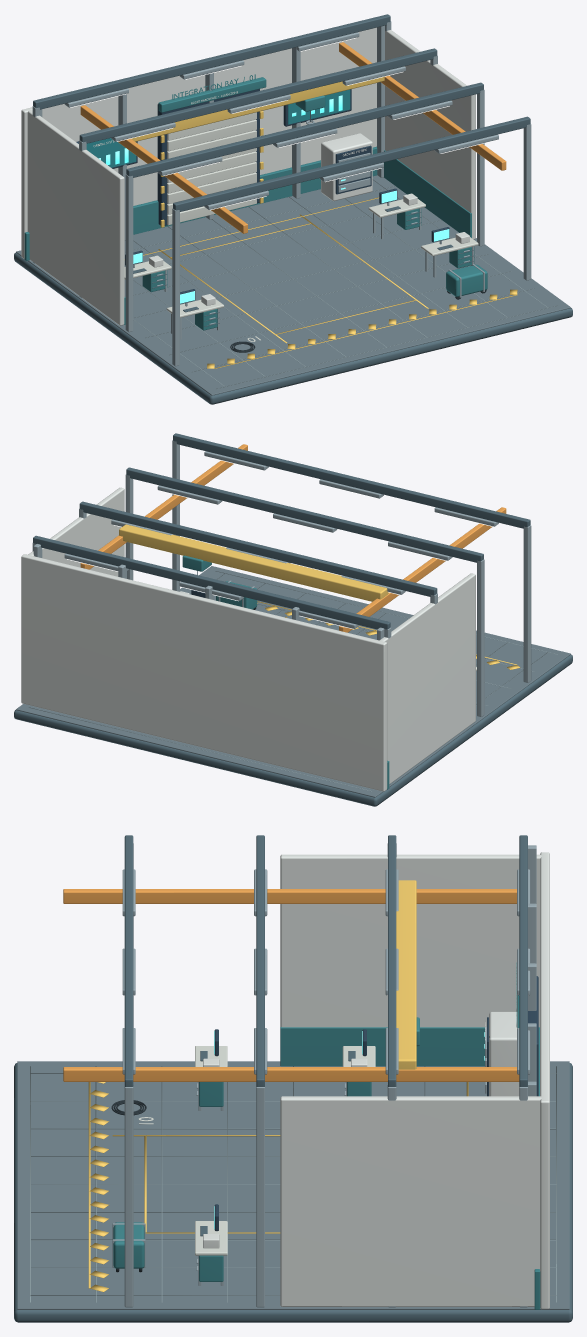
The model's file is hangar.glb.
The picture shows the model from 3 angles, top to bottom: view 1: azimuth 30°, elevation 25°; view 2: azimuth 150°, elevation 25°; view 3: azimuth 270°, elevation 25°; orthographic projection. The views are drawn at different scales.
Visible parts, largest first — view 1: Environment_Floor.001, Environment_Ivory.001, Environment_DarkSteel.001, Environment_Steel.001, Environment_Teal.001, Environment_ConcreteLight.001, Environment_Yellow.001, Environment_FloorLine.001, Environment_Amber.001, Environment_Navy.001, Environment_Screen.001, Environment_ScreenGlow.001 (+1 smaller); view 2: Environment_Ivory.001, Environment_DarkSteel.001, Environment_Floor.001, Environment_Steel.001, Environment_Yellow.001, Environment_Amber.001, Environment_FloorLine.001, Environment_Teal.001, Environment_Lamp.001; view 3: Environment_Ivory.001, Environment_Floor.001, Environment_DarkSteel.001, Environment_Amber.001, Environment_Steel.001, Environment_Teal.001, Environment_Yellow.001, Environment_FloorLine.001, Environment_ConcreteLight.001, Environment_Navy.001.
Part boxes in pixels (left/top/right/bottom): Environment_Floor.001: left=16, top=175, right=570, bottom=395; Environment_Ivory.001: left=21, top=27, right=475, bottom=325; Environment_DarkSteel.001: left=14, top=14, right=572, bottom=404; Environment_Steel.001: left=32, top=21, right=531, bottom=366; Environment_Teal.001: left=24, top=74, right=487, bottom=330; Environment_ConcreteLight.001: left=124, top=112, right=478, bottom=341; Environment_Yellow.001: left=124, top=76, right=517, bottom=368; Environment_FloorLine.001: left=125, top=179, right=557, bottom=389; Environment_Amber.001: left=80, top=42, right=506, bottom=233; Environment_Navy.001: left=76, top=89, right=449, bottom=303; Environment_Screen.001: left=86, top=89, right=350, bottom=167; Environment_ScreenGlow.001: left=98, top=95, right=449, bottom=303; Environment_Ivory.001: left=21, top=487, right=475, bottom=791; Environment_DarkSteel.001: left=14, top=433, right=572, bottom=806; Environment_Floor.001: left=16, top=566, right=570, bottom=797; Environment_Steel.001: left=32, top=440, right=531, bottom=784; Environment_Yellow.001: left=119, top=524, right=520, bottom=669; Environment_Amber.001: left=80, top=444, right=506, bottom=632; Environment_FloorLine.001: left=29, top=571, right=558, bottom=791; Environment_Teal.001: left=182, top=555, right=389, bottom=789; Environment_Lamp.001: left=67, top=456, right=493, bottom=629; Environment_Ivory.001: left=203, top=852, right=549, bottom=1309; Environment_Floor.001: left=17, top=1061, right=569, bottom=1309; Environment_DarkSteel.001: left=14, top=835, right=572, bottom=1322; Environment_Amber.001: left=63, top=889, right=519, bottom=1081; Environment_Steel.001: left=112, top=843, right=536, bottom=1307; Environment_Teal.001: left=113, top=962, right=540, bottom=1309; Environment_Yellow.001: left=88, top=880, right=468, bottom=1292; Environment_FloorLine.001: left=30, top=1066, right=556, bottom=1302; Environment_ConcreteLight.001: left=138, top=1046, right=375, bottom=1255; Environment_Navy.001: left=214, top=976, right=538, bottom=1230.
Size of the model in its own units: 18 by 8.12 by 17.
